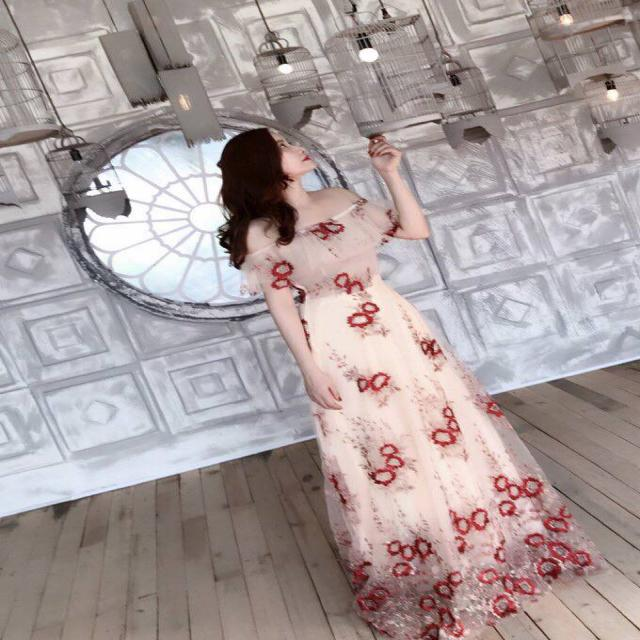clothes: (232, 197, 606, 633)
